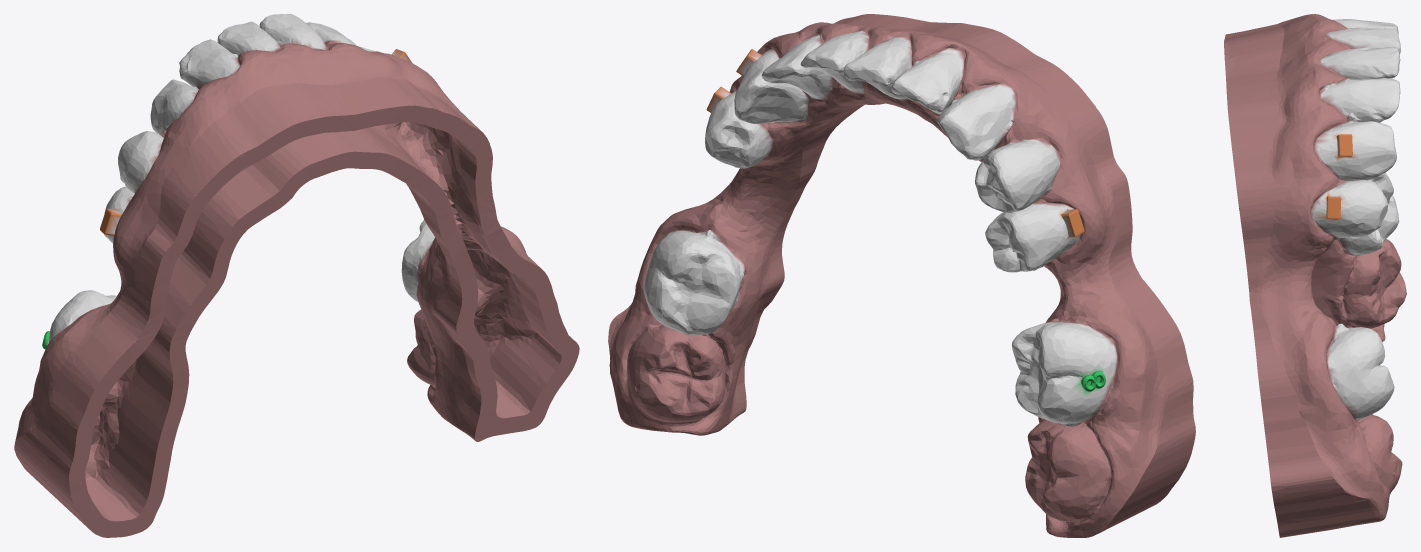
File: lower-model-8.glb
3 views of the same model, side by side, from view 1: azimuth 30°, elevation 25°; view 2: azimuth 150°, elevation 25°; view 3: azimuth 270°, elevation 25° (orthographic). The views are drawn at different scales.
Parts seen in each view (by area): view 1: 8 (1); view 2: 8 (1); view 3: 8 (1).
Part boxes in pixels (box(x1,y1,x2,y2)): 8 (1): box(14, 14, 579, 537); 8 (1): box(608, 14, 1195, 537); 8 (1): box(1224, 14, 1406, 537).
Bounding box in the file's own units: 64.22 × 50.38 × 20.71.
